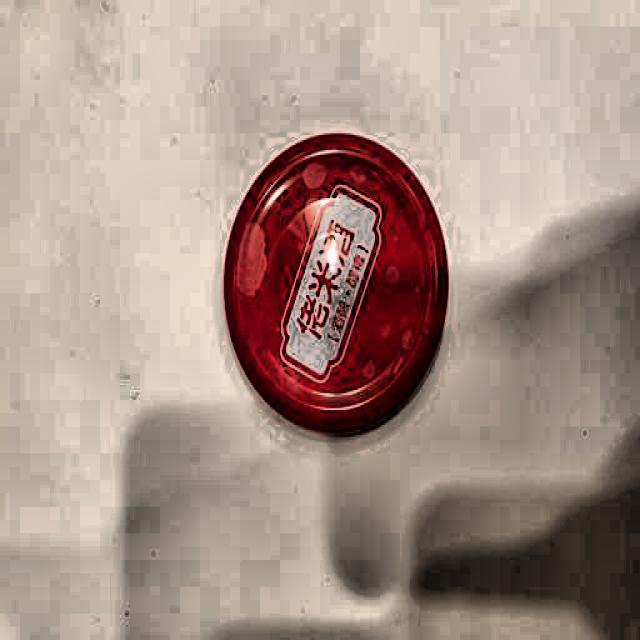metal: (219, 135, 449, 439)
